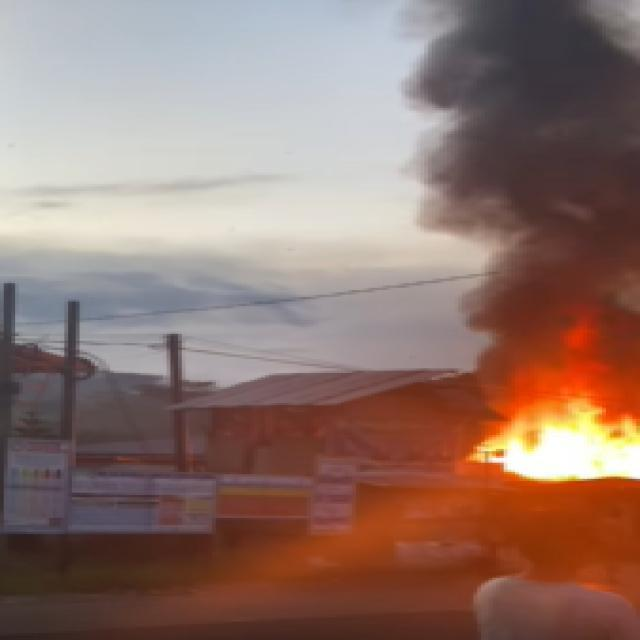Fire: (485, 366, 640, 484)
Smoke: (409, 0, 636, 398)
